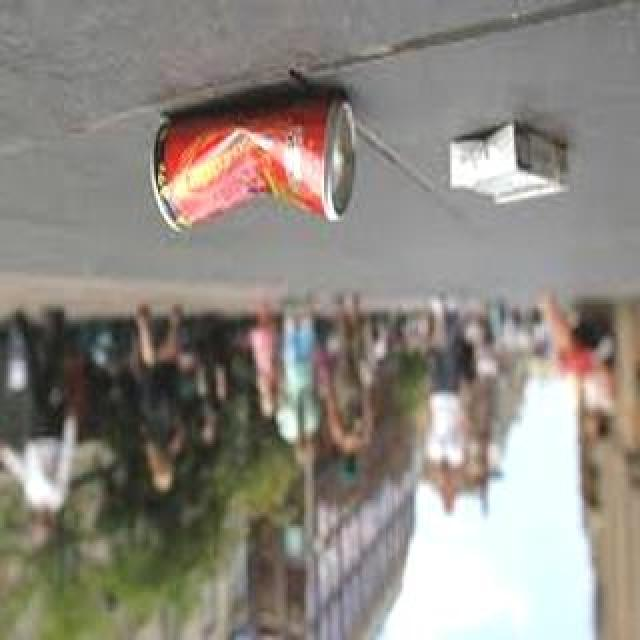Can: (126, 96, 362, 238)
